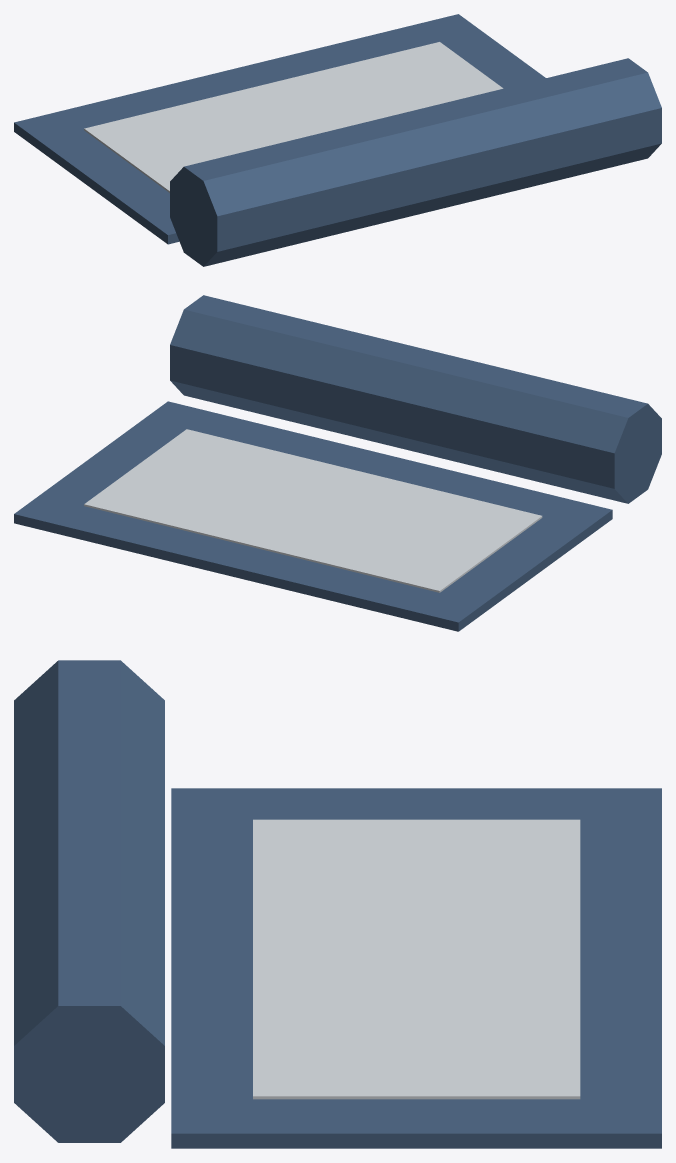
Rendered from item_techprint.obj.
The picture shows the model from 3 angles, top to bottom: view 1: azimuth 30°, elevation 25°; view 2: azimuth 150°, elevation 25°; view 3: azimuth 270°, elevation 25°; orthographic projection. The views are drawn at different scales.
Parts seen in each view (by area): view 1: item_techprint; view 2: item_techprint; view 3: item_techprint.
Boxes of the visible parts, x1,y1,x2,y2 form: item_techprint: (14, 14, 661, 266); item_techprint: (14, 295, 661, 631); item_techprint: (14, 660, 661, 1148).
Size of the model in its own units: 0.5 by 0.0962 by 0.3962.
